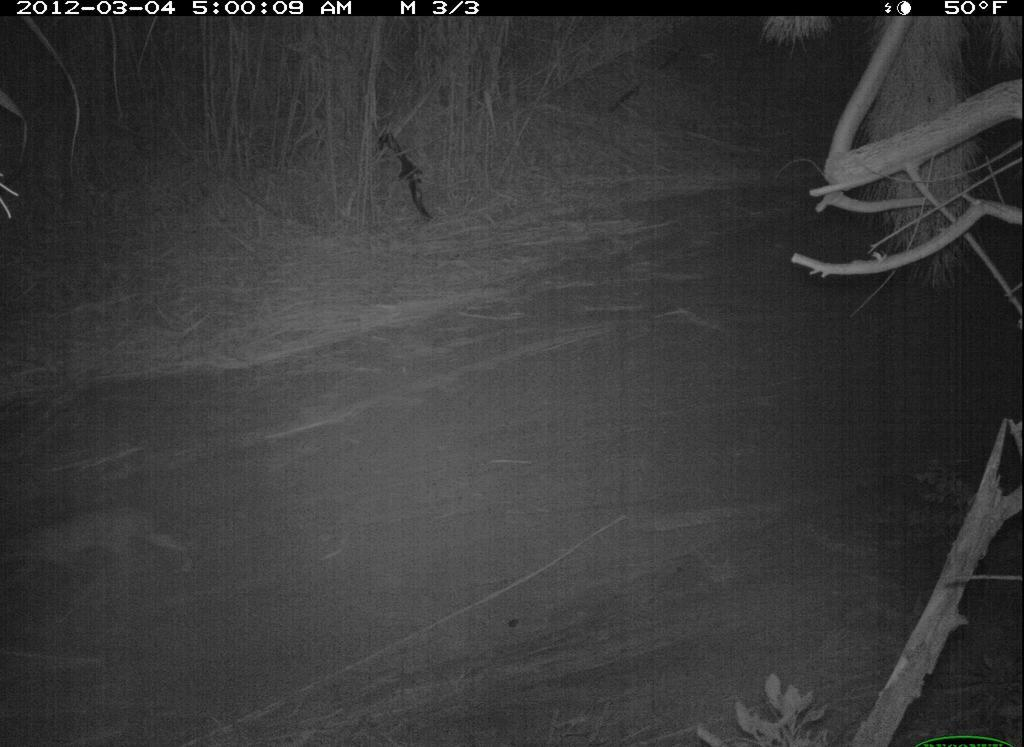bobcat: (6, 501, 203, 619)
